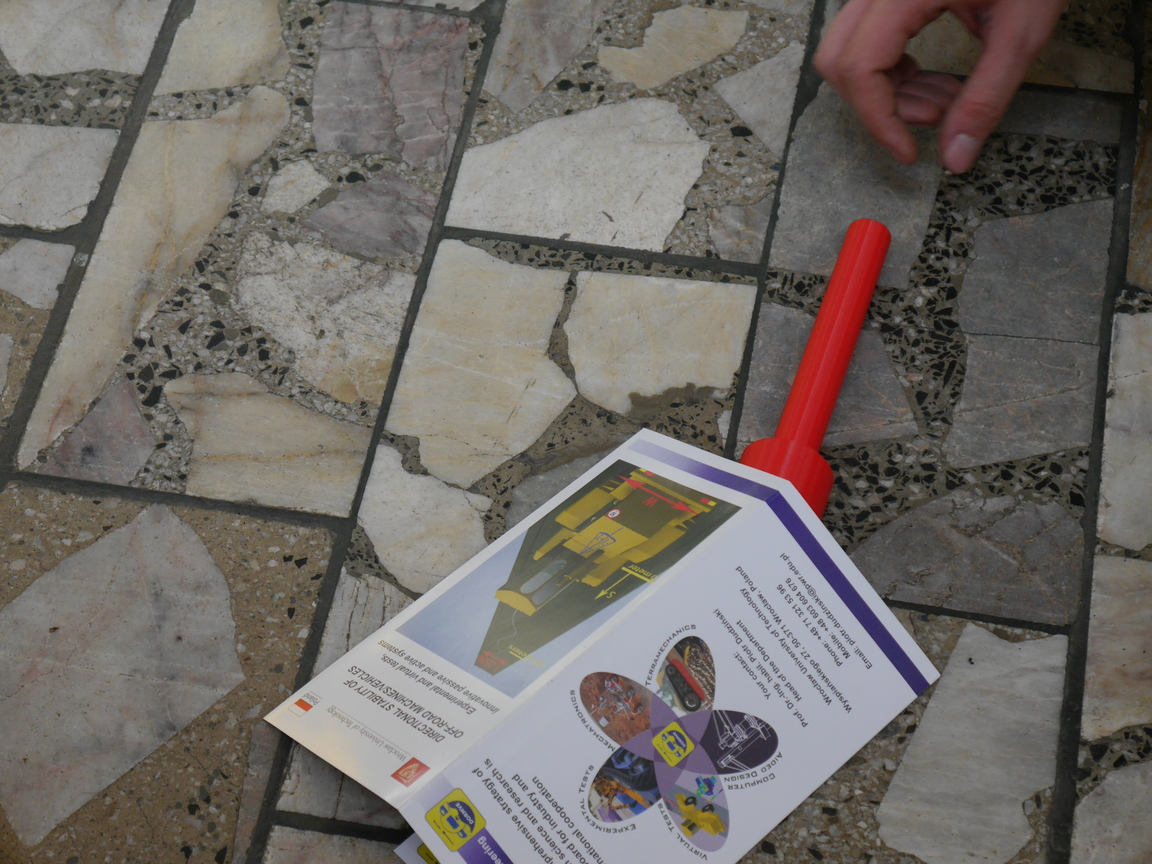cargo_g: (738, 218, 892, 522)
